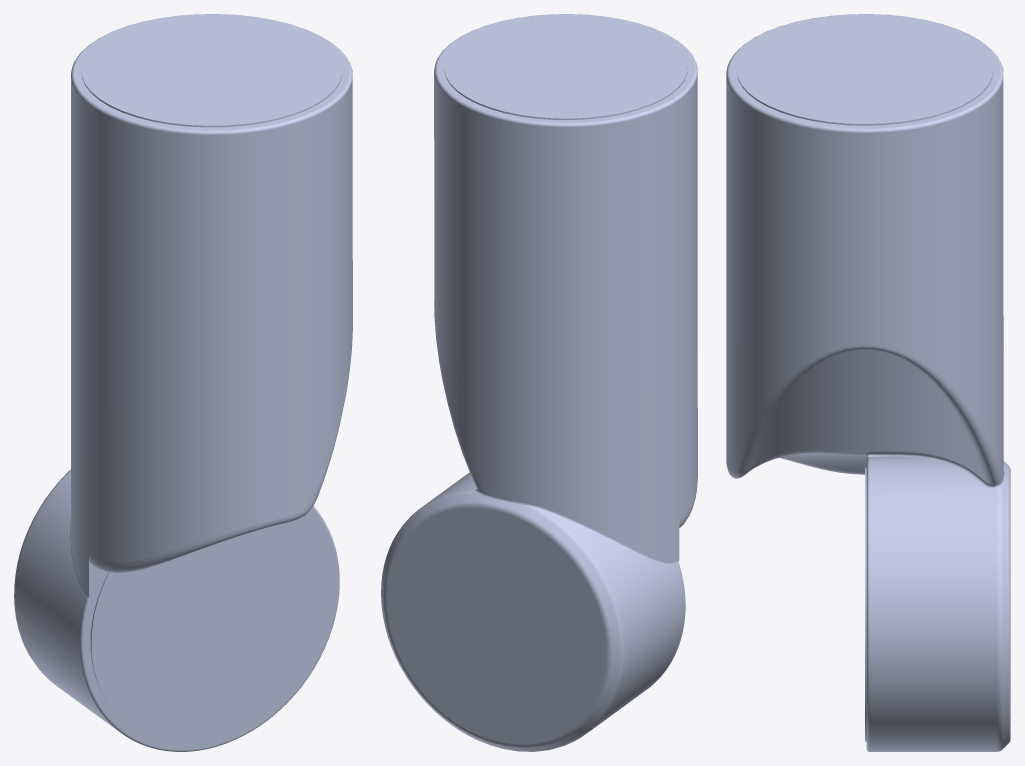
File: Link_Arm_5.obj
3 renders of one model, left to right at view 1: azimuth 30°, elevation 25°; view 2: azimuth 150°, elevation 25°; view 3: azimuth 270°, elevation 25°, orthographic. The views are drawn at different scales.
Visible parts, largest first — view 1: Body1; view 2: Body1; view 3: Body1.
Boxes of the visible parts, bbox=[...] form: Body1: bbox=[14, 14, 352, 751]; Body1: bbox=[381, 14, 697, 751]; Body1: bbox=[726, 14, 1010, 751].
Bounding box in the file's own units: 8.5 × 21.25 × 8.2.
